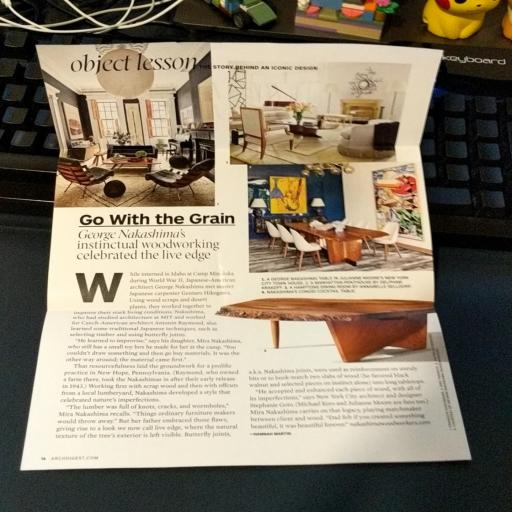paper: (8, 26, 479, 512)
